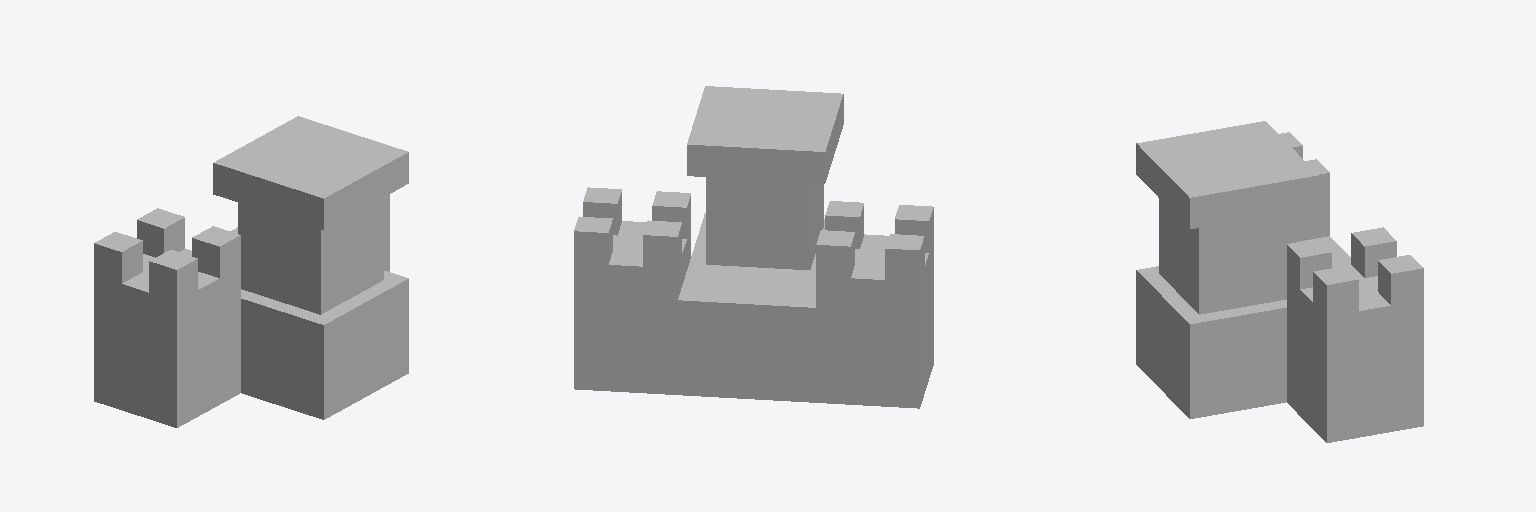
The model's file is castelinho.obj.
3 views of the same model, side by side, from view 1: azimuth 30°, elevation 25°; view 2: azimuth 150°, elevation 25°; view 3: azimuth 270°, elevation 25° (orthographic).
Visible parts, largest first — view 1: torre2, torre1; view 2: torre2, torre1; view 3: torre1, torre2.
Part boxes in pixels (left/top/right/bottom): torre2: left=94, top=116, right=408, bottom=427; torre1: left=230, top=194, right=408, bottom=419; torre2: left=687, top=86, right=933, bottom=408; torre1: left=574, top=187, right=824, bottom=402; torre1: left=1136, top=227, right=1423, bottom=442; torre2: left=1136, top=121, right=1329, bottom=314.
Bounding box in the file's own units: 0.6492 × 0.4375 × 0.5139.